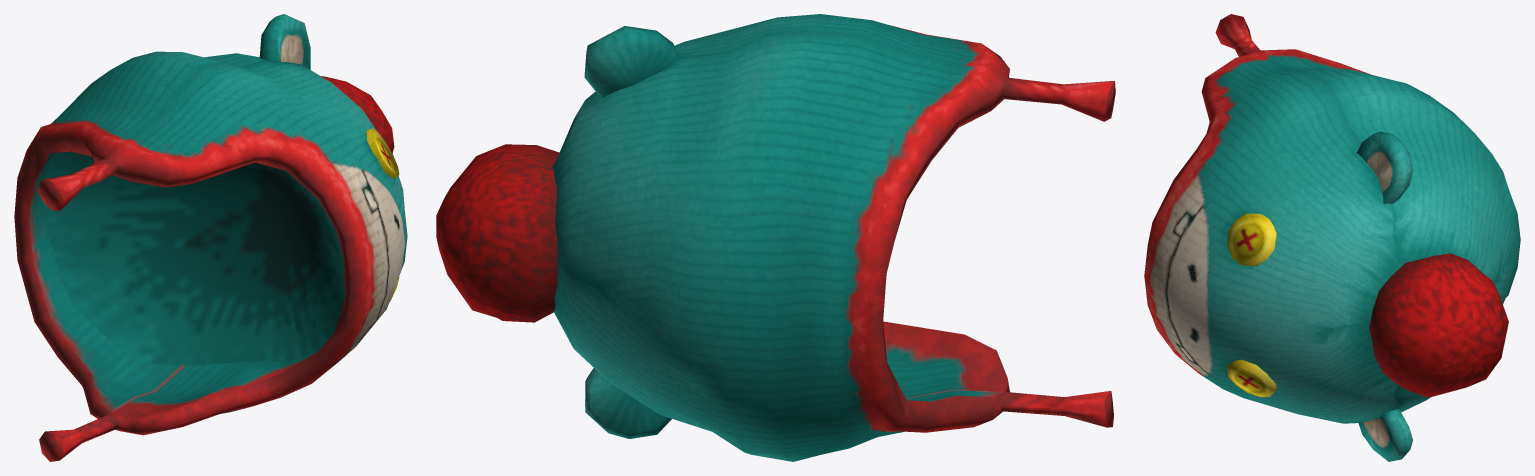
File: F_CampingKnitHat.fbx
The picture shows the model from 3 angles, left to right: view 1: azimuth 30°, elevation 25°; view 2: azimuth 150°, elevation 25°; view 3: azimuth 270°, elevation 25°; orthographic projection. The views are drawn at different scales.
Visible parts, largest first — view 1: 5_mesh_0.05_0_0_root_root.001; view 2: 5_mesh_0.05_0_0_root_root.001; view 3: 5_mesh_0.05_0_0_root_root.001.
Part boxes in pixels (x1,y1,x2,y2): 5_mesh_0.05_0_0_root_root.001: (14,14,407,461); 5_mesh_0.05_0_0_root_root.001: (436,14,1115,461); 5_mesh_0.05_0_0_root_root.001: (1144,14,1520,461).
Size of the model in its own units: 0.1872 by 0.1356 by 0.1428.
